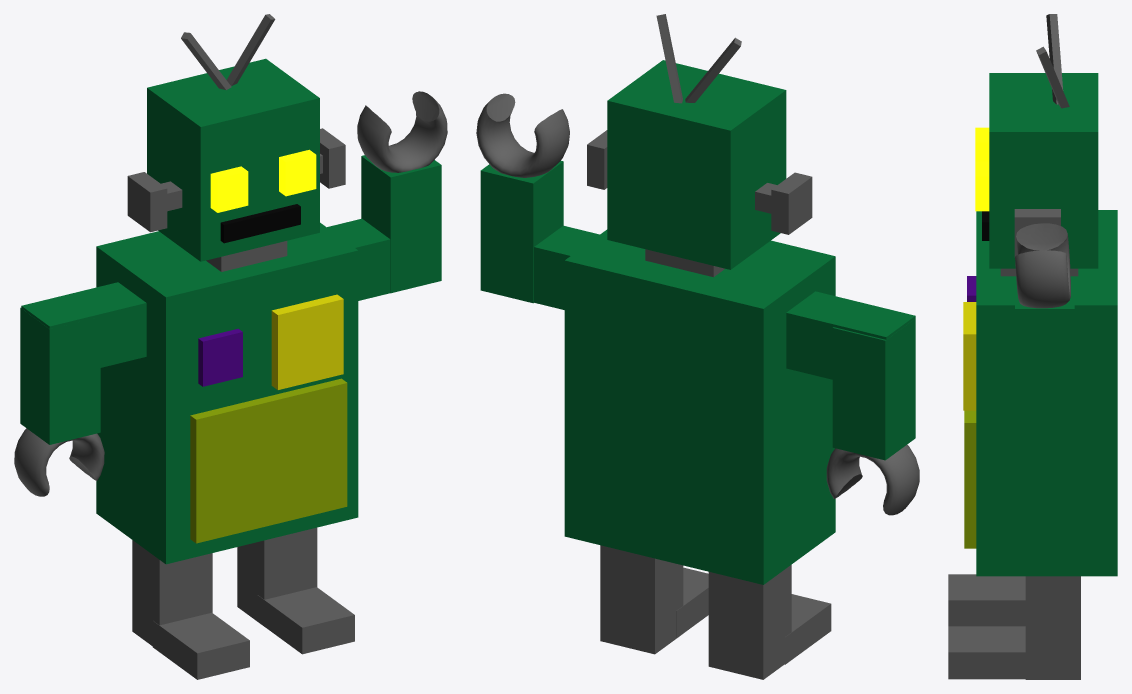
The model's file is Toy_Robot.fbx.
3 views of the same model, side by side, from view 1: azimuth 30°, elevation 25°; view 2: azimuth 150°, elevation 25°; view 3: azimuth 270°, elevation 25° (orthographic). The views are drawn at different scales.
Parts seen in each view (by area): view 1: leg3; view 2: leg3; view 3: leg3.
Boxes of the visible parts, x1,y1,x2,y2 form: leg3: [14, 14, 447, 679]; leg3: [476, 14, 919, 679]; leg3: [948, 14, 1117, 679].
Bounding box in the file's own units: 0.4829 × 0.6658 × 0.1666.
